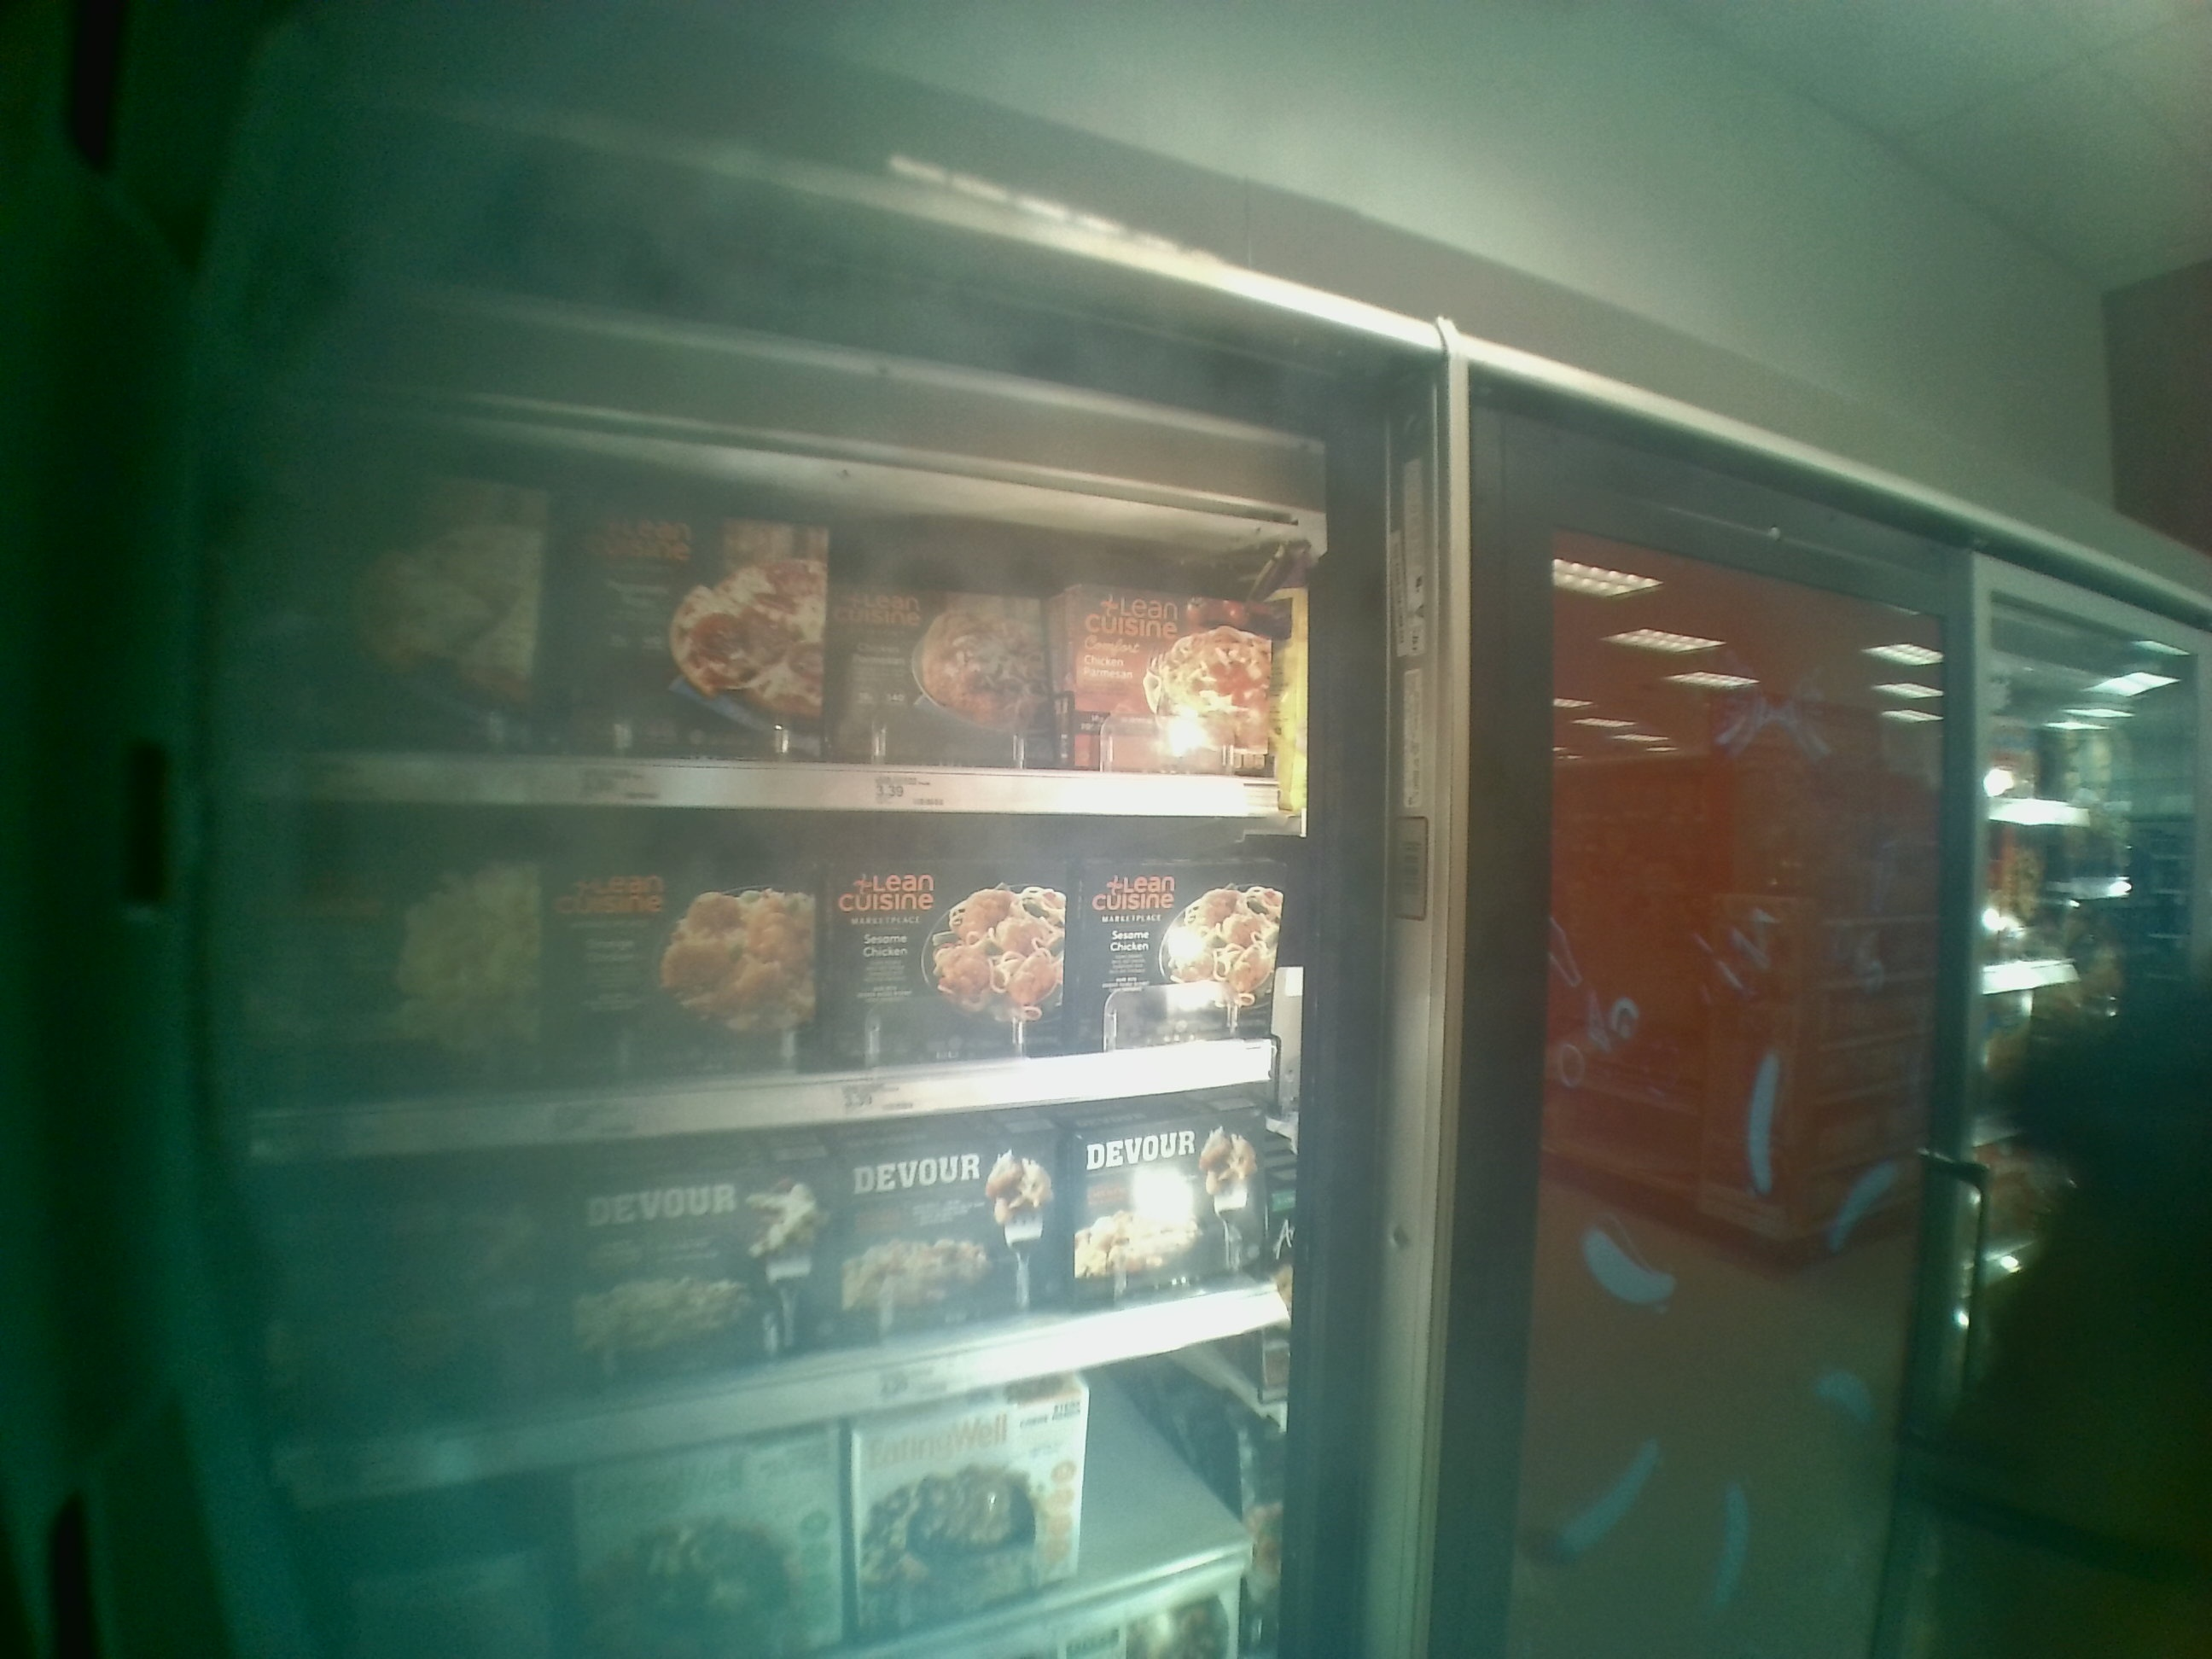shelf: (263, 392, 1289, 817), (254, 809, 1308, 1185)
